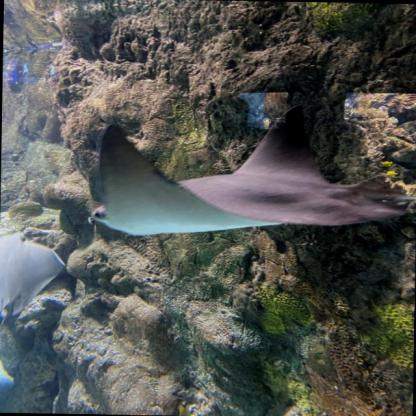stingray: (90, 100, 410, 242), (0, 229, 69, 322)
